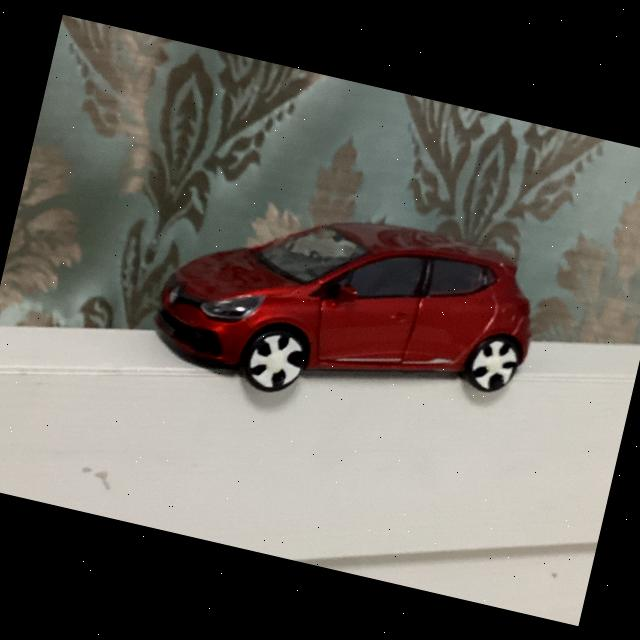Yanlis_Jant: (248, 332, 304, 392), (469, 337, 520, 392)
